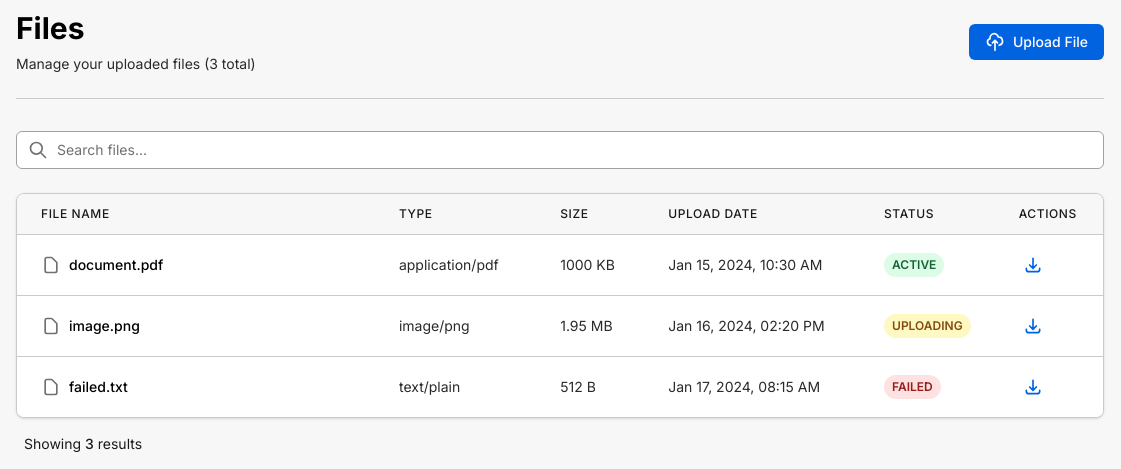
Test case: FilesPage › Search functionality › should show empty state when no matches
Type "nonexistent" into the field with placeholder "Search files...".
click(560, 150); type("nonexistent")  # box [16, 131, 1104, 169]
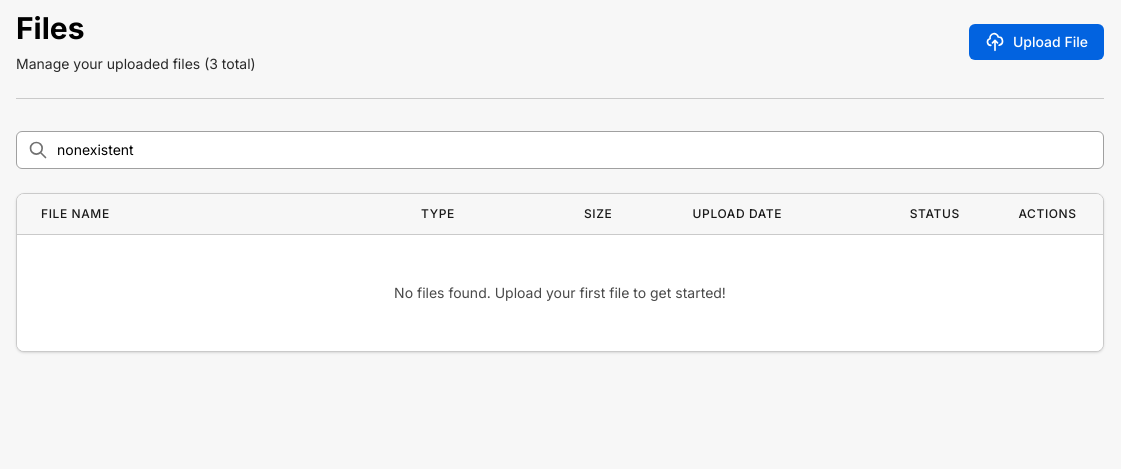
Expected: the text "No files found. Upload your first file to get started!" is shown, [17, 234, 1103, 351]
